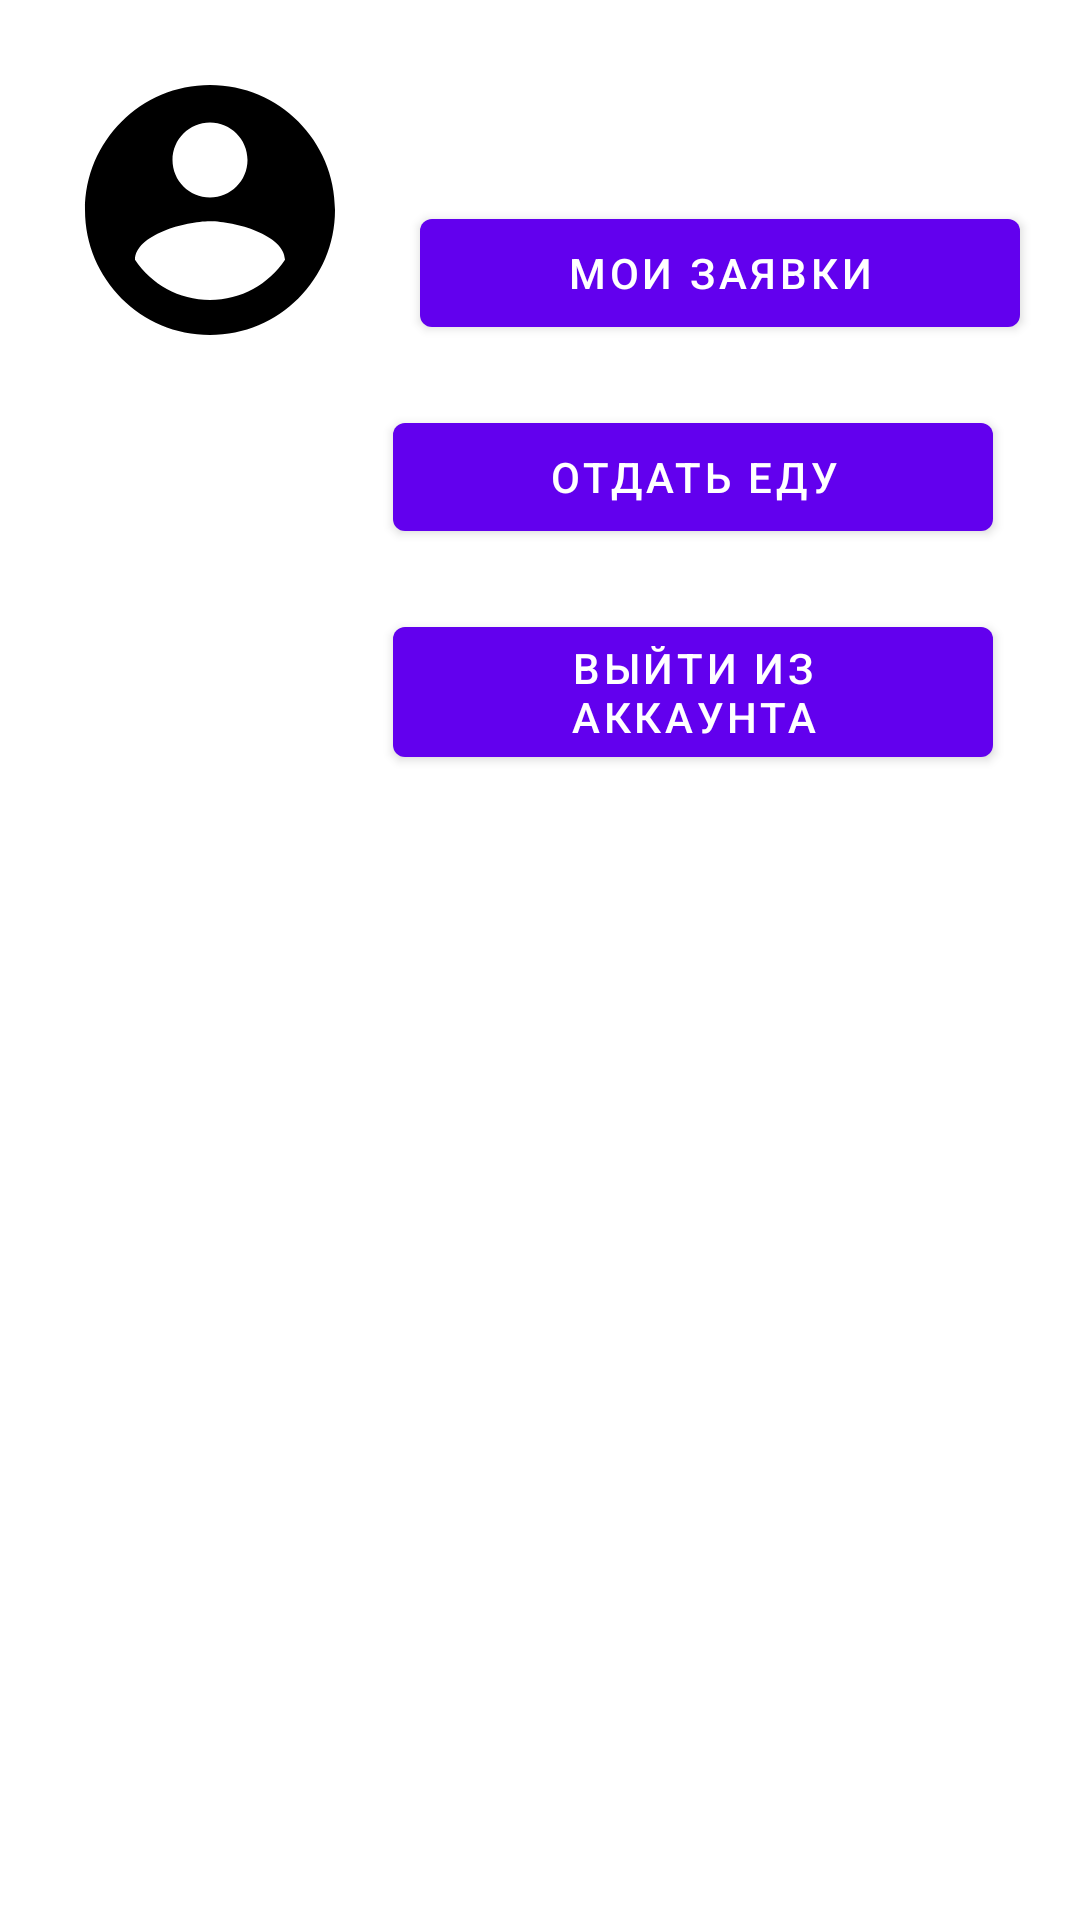

Where to tap for icons on this 1080px x 1920px app screen, as (x=x, y=y):
account circle: (x=210, y=210)
